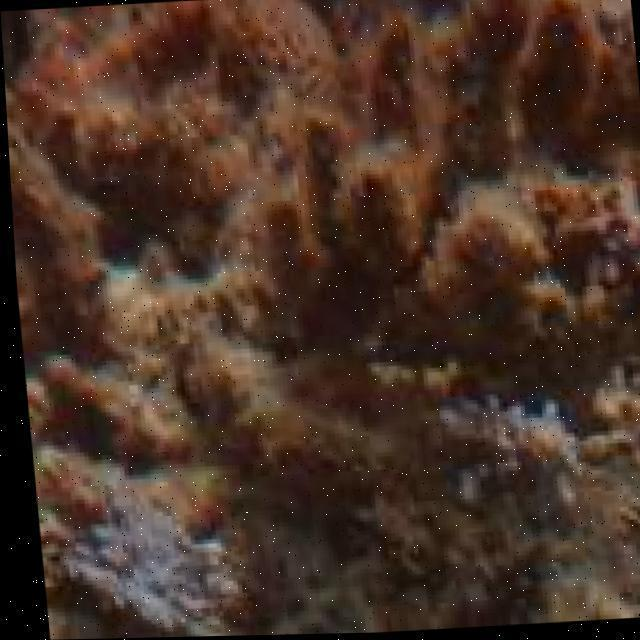Bleached Coral: (54, 478, 246, 636)
